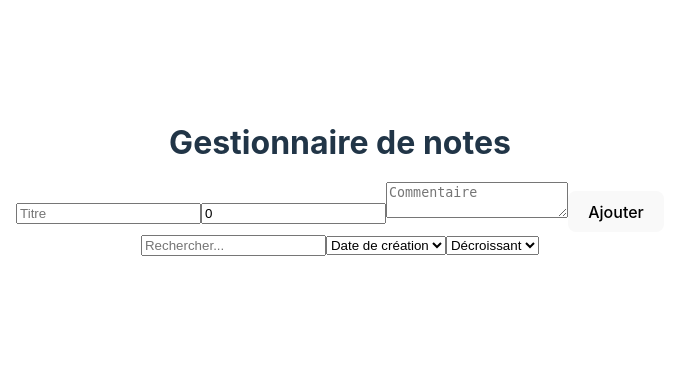
Test: NoteApp › modifie une note existante
Type "Titre de la note 1" into the field with test id "input-title".
click(108, 213); type("Titre de la note 1")  # box x1=16 y1=203 x2=201 y2=224
Type "16" into the number field with test id "input-note".
click(294, 213); type("16")  # box x1=201 y1=203 x2=386 y2=224
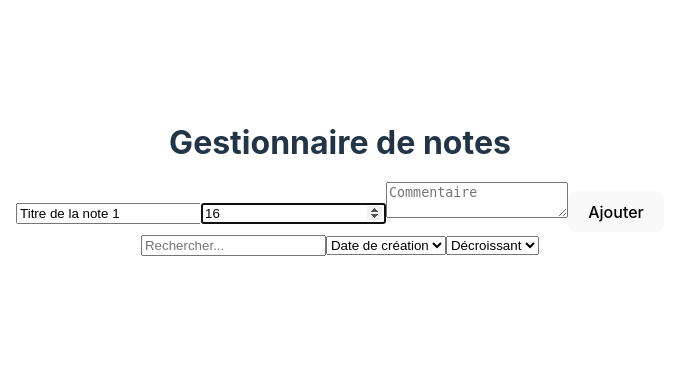
Type "Commentaire de la note 1" into the text box with test id "input-comment".
click(477, 200); type("Commentaire de la note 1")  # box x1=386 y1=182 x2=568 y2=218
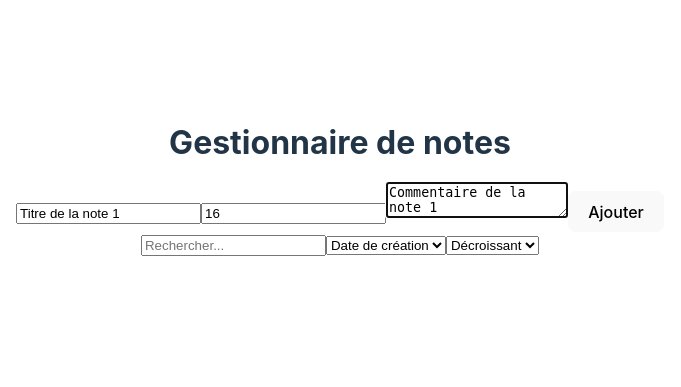
Submit the form with test id "form", box x1=16 y1=182 x2=664 y2=232
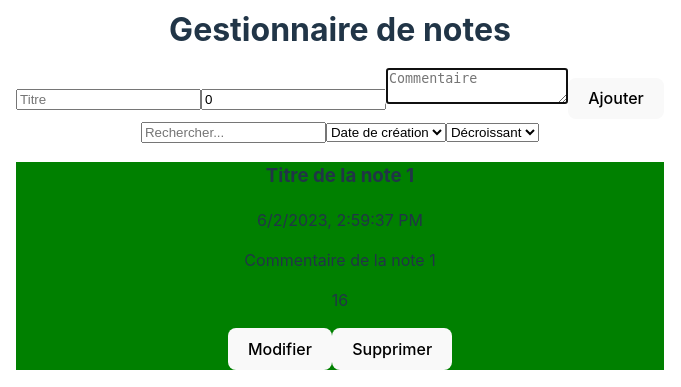
Click the button "Modifier".
click(280, 349)  # box x1=228 y1=328 x2=332 y2=370
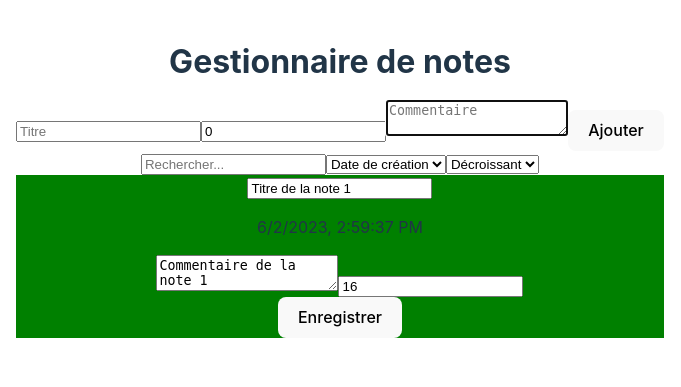
Replace the text in the 1st field showing "Titre de la note 1" with "Nouveau titre" at x=340, y=188, box x1=248 y1=178 x2=432 y2=199
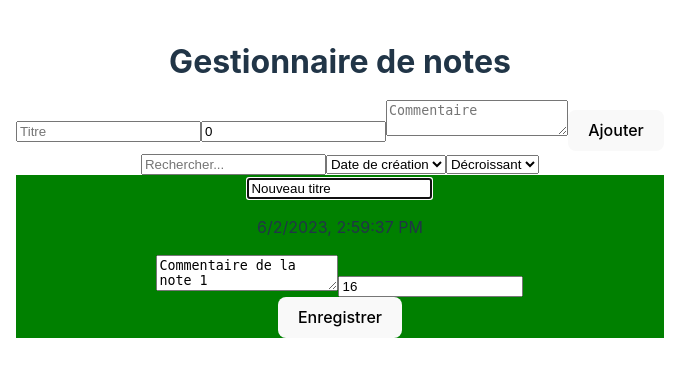
Click the button "Enregistrer".
click(340, 317)  # box x1=278 y1=297 x2=402 y2=338
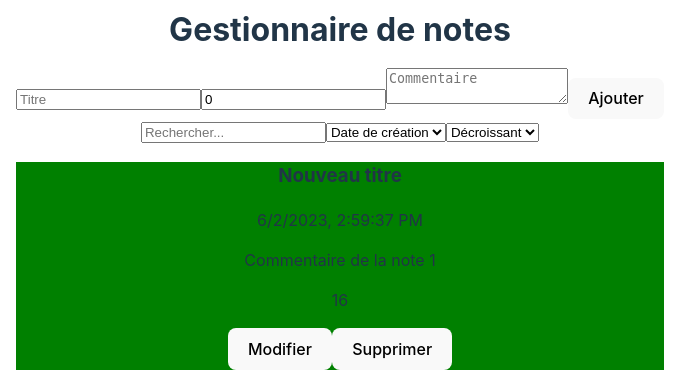
Check: the heading "Nouveau titre" is shown, box x1=278 y1=164 x2=402 y2=187
